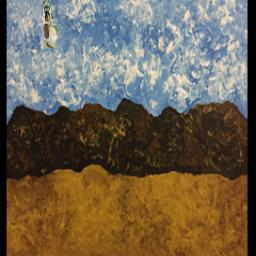Cuckoo: (42, 0, 58, 49)
